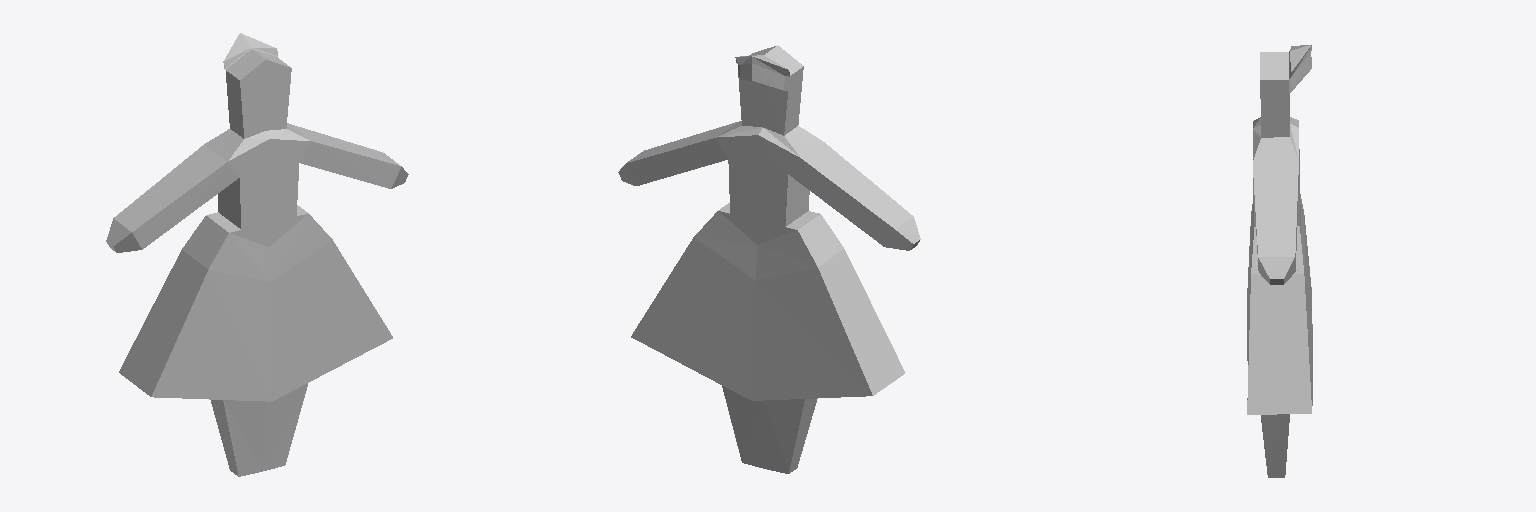
Rendered from Girl Puppet.obj.
3 renders of one model, left to right at view 1: azimuth 30°, elevation 25°; view 2: azimuth 150°, elevation 25°; view 3: azimuth 270°, elevation 25°, orthographic.
Visible parts, largest first — view 1: Cube; view 2: Cube; view 3: Cube.
Part boxes in pixels (left/top/right/bottom): Cube: left=106, top=33, right=408, bottom=476; Cube: left=618, top=45, right=920, bottom=473; Cube: left=1247, top=45, right=1312, bottom=477.
Bounding box in the file's own units: 6.83 × 9.34 × 1.32.